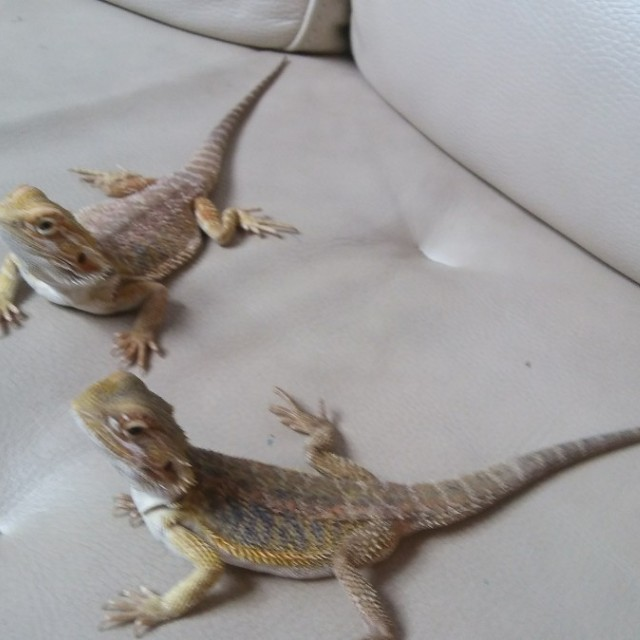bearded: (73, 371, 640, 639), (3, 56, 291, 368)
